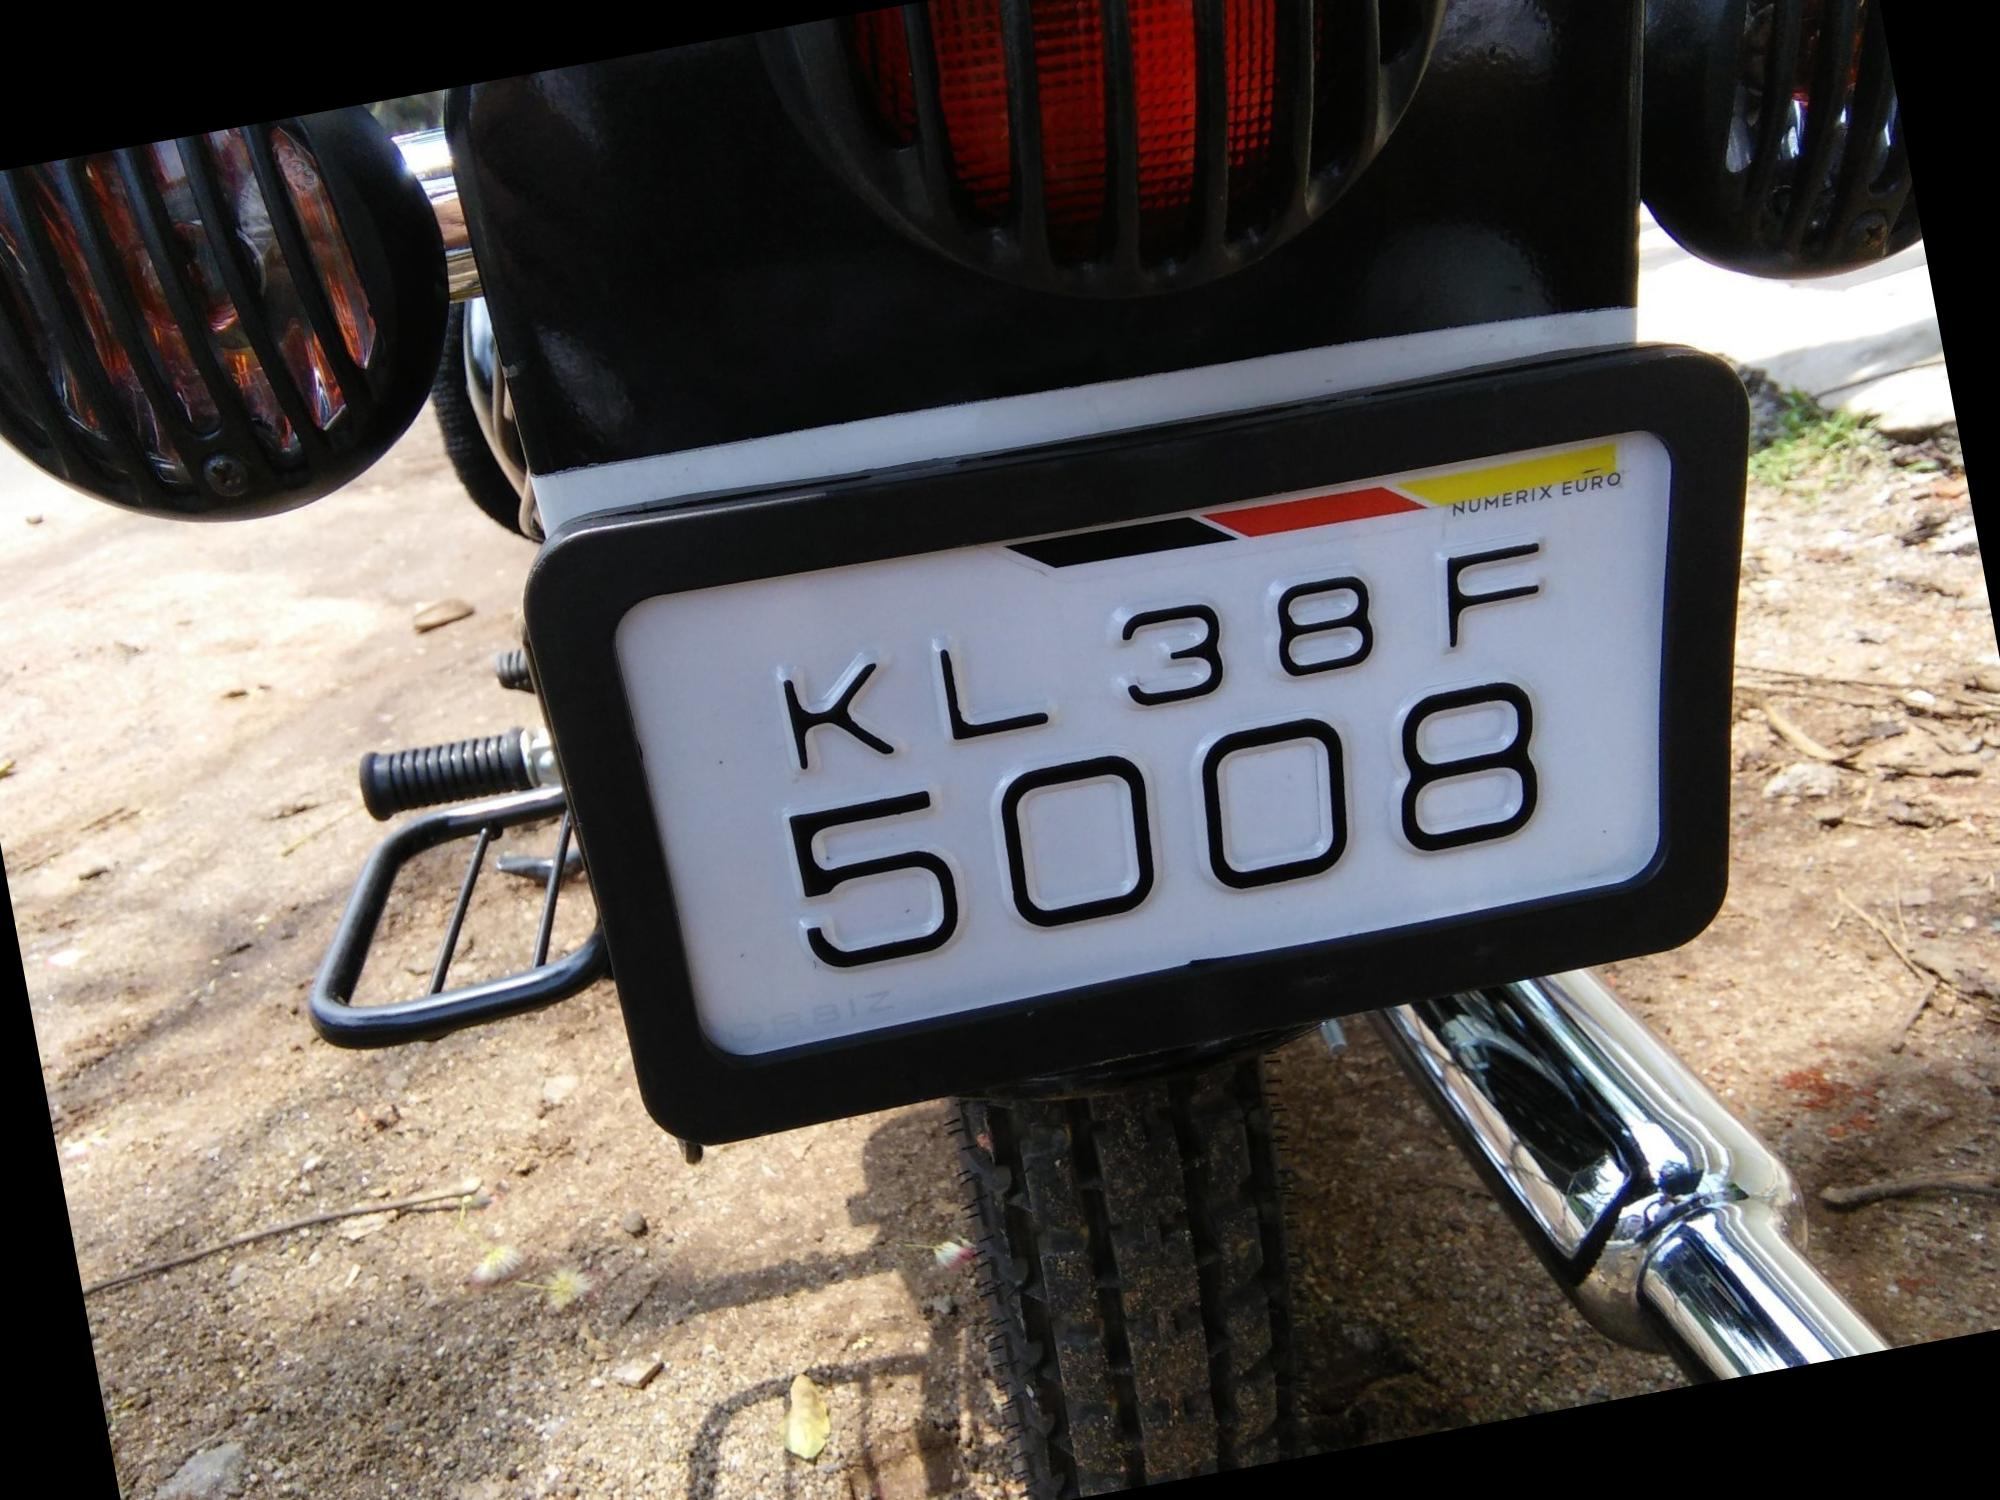plate: (506, 311, 1792, 1153)
